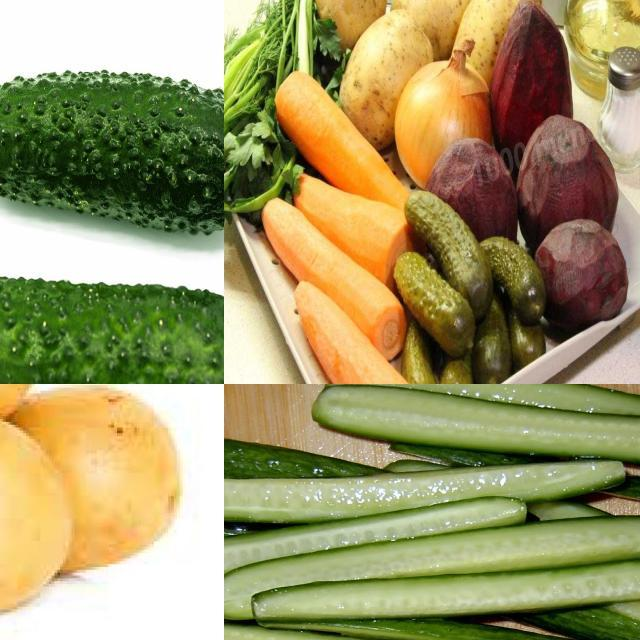beet: (494, 2, 577, 139), (523, 122, 617, 233), (537, 222, 624, 322), (432, 137, 512, 225)
carrot: (279, 79, 349, 165), (341, 201, 404, 276), (340, 339, 416, 385), (268, 210, 322, 274)
cucumber: (1, 61, 225, 241), (1, 273, 225, 385), (414, 198, 476, 284), (401, 270, 461, 334), (496, 244, 536, 309)
onion: (401, 53, 493, 169)
potato: (9, 386, 182, 577), (1, 417, 70, 617), (350, 11, 410, 123), (475, 1, 532, 51), (391, 1, 489, 24), (321, 1, 384, 29)
